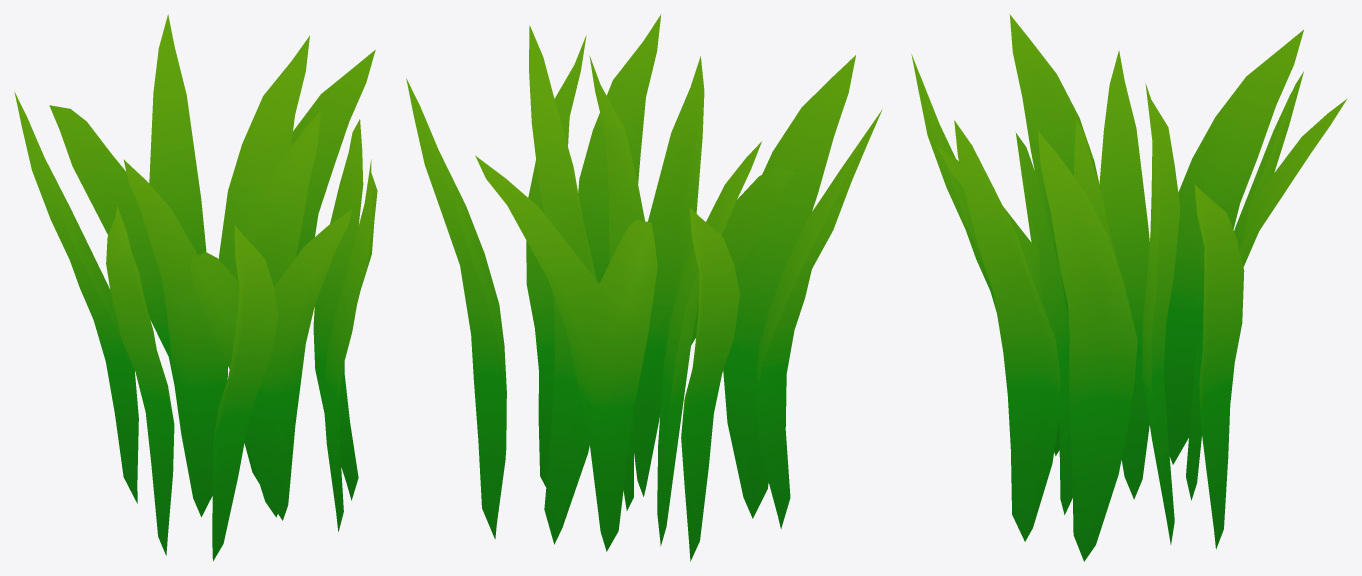
File: nature_grass_wide_short.glb
3 renders of one model, left to right at view 1: azimuth 30°, elevation 25°; view 2: azimuth 150°, elevation 25°; view 3: azimuth 270°, elevation 25°, orthographic. The views are drawn at different scales.
Visible parts, largest first — view 1: nature_grass_wide_short; view 2: nature_grass_wide_short; view 3: nature_grass_wide_short.
Part boxes in pixels (left/top/right/bottom): nature_grass_wide_short: left=14, top=14, right=377, bottom=561; nature_grass_wide_short: left=406, top=14, right=882, bottom=561; nature_grass_wide_short: left=911, top=14, right=1347, bottom=561.
Bounding box in the file's own units: 104 × 130 × 107.
1 material, 1 textured.
